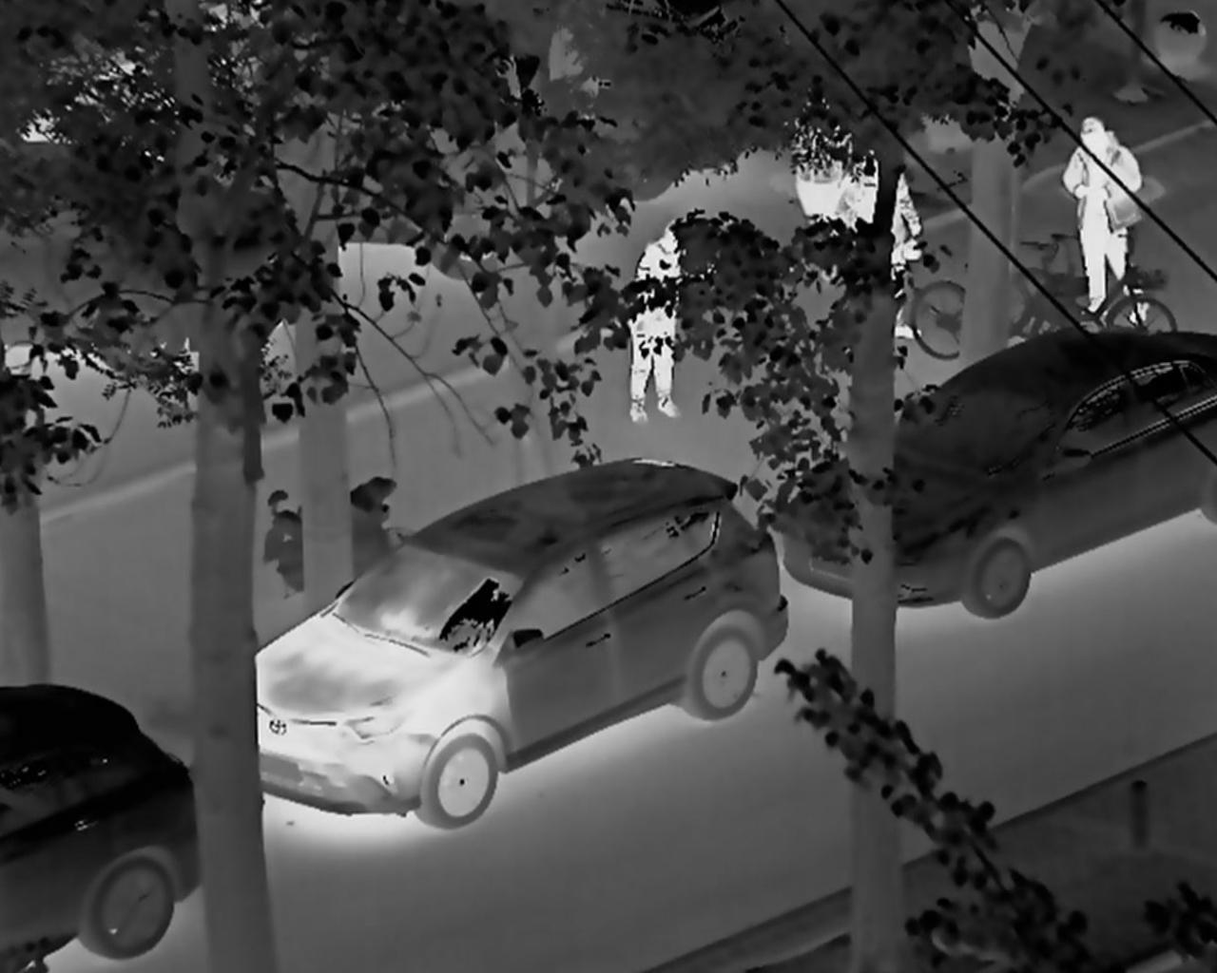person: (1056, 114, 1156, 339), (614, 213, 700, 439), (843, 151, 918, 334), (793, 114, 852, 256)
